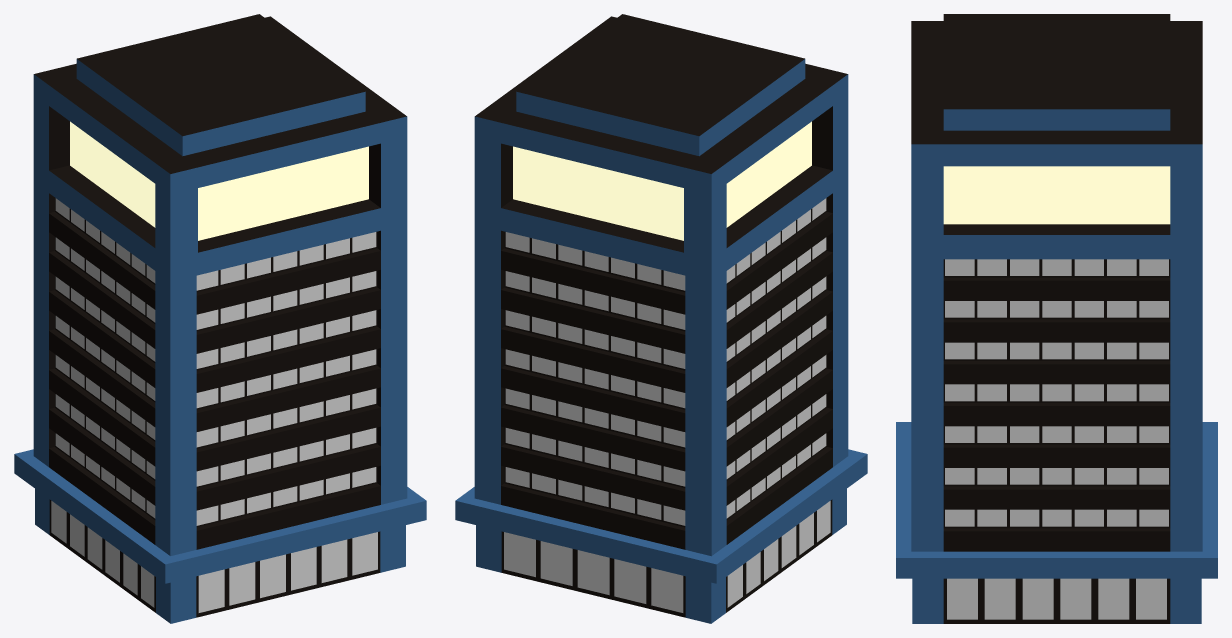
The model's file is gedung tinggi 2.fbx.
3 views of the same model, side by side, from view 1: azimuth 30°, elevation 25°; view 2: azimuth 150°, elevation 25°; view 3: azimuth 270°, elevation 25° (orthographic). The views are drawn at different scales.
Parts seen in each view (by area): view 1: Cube.470; view 2: Cube.470; view 3: Cube.470.
Boxes of the visible parts, box(x1,y1,x2,y2) form: Cube.470: box(14, 14, 426, 623); Cube.470: box(455, 14, 867, 623); Cube.470: box(896, 14, 1217, 623).
Bounding box in the file's own units: 77.53 × 133 × 77.53.
